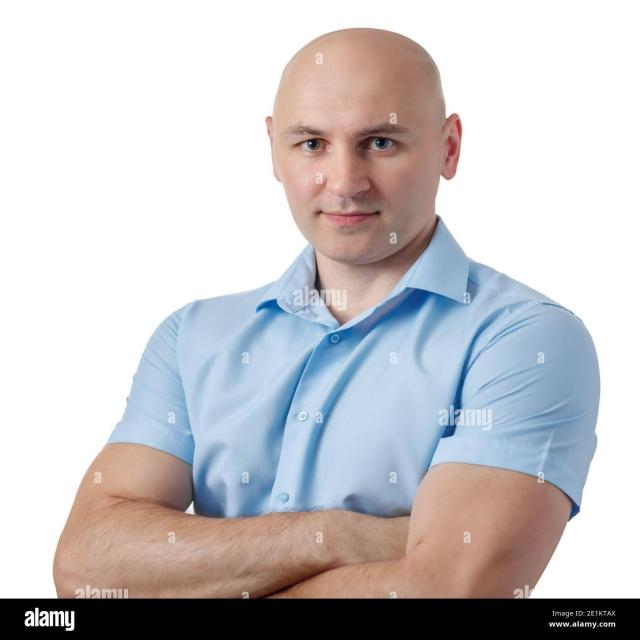bald: (249, 24, 471, 142)
